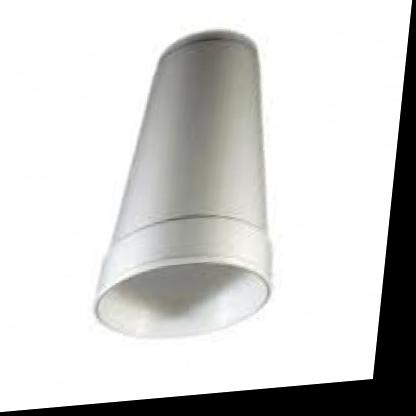Plastic: (81, 3, 326, 372)
